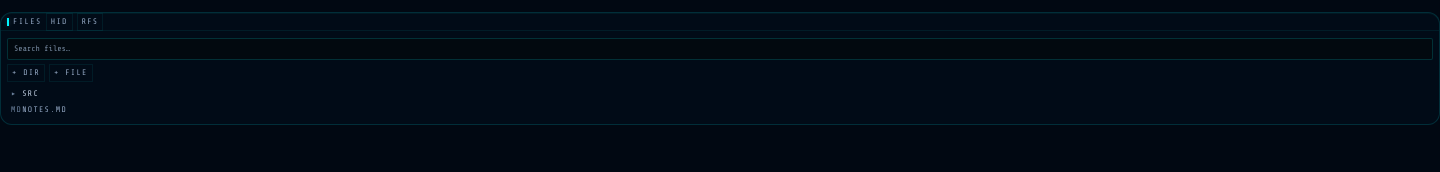
FileExplorer › renders the server's refusal when a folder cannot be created
The image size is (1440, 172).
Click the button with aria-label "New folder" at (26, 73), box 7,64 -> 45,82
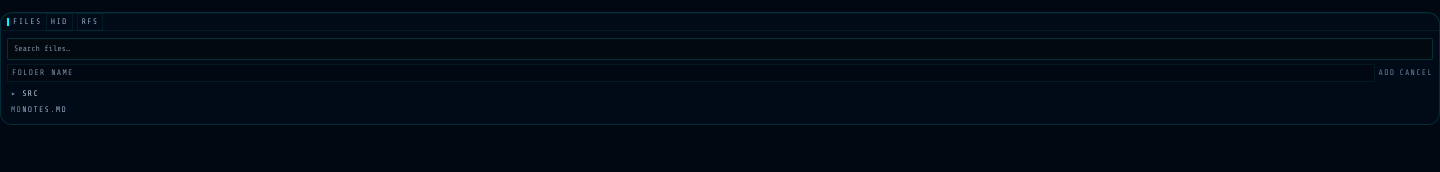
Type "evil" into the field named "New folder name" at (691, 73), box 7,64 -> 1375,82
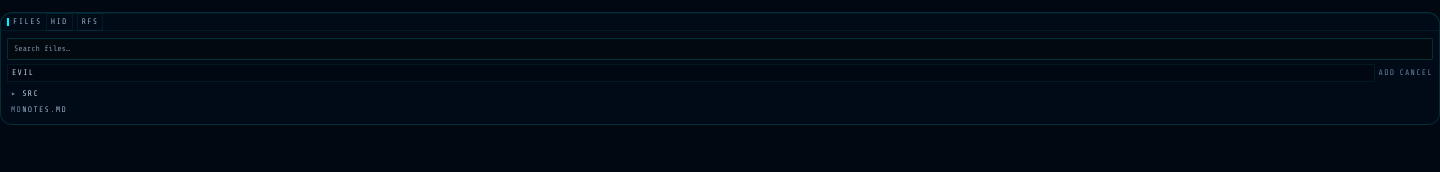
Submit the form named "New folder name", box 1,64 -> 1439,86
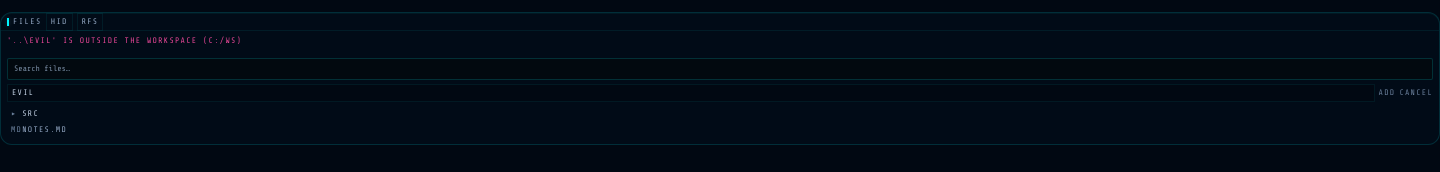
expect the message shows "outside the workspace": met, box 7,36 -> 242,45
